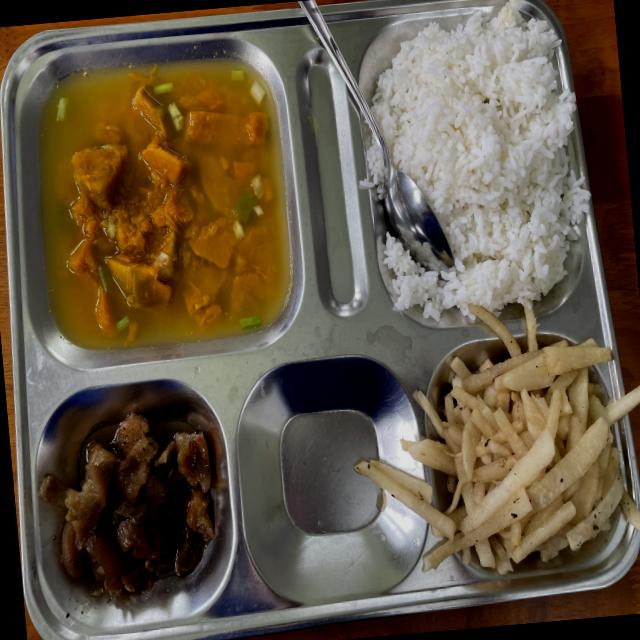bo xao: (38, 412, 215, 595)
canh bi do: (39, 61, 292, 349)
com: (371, 0, 590, 326)
